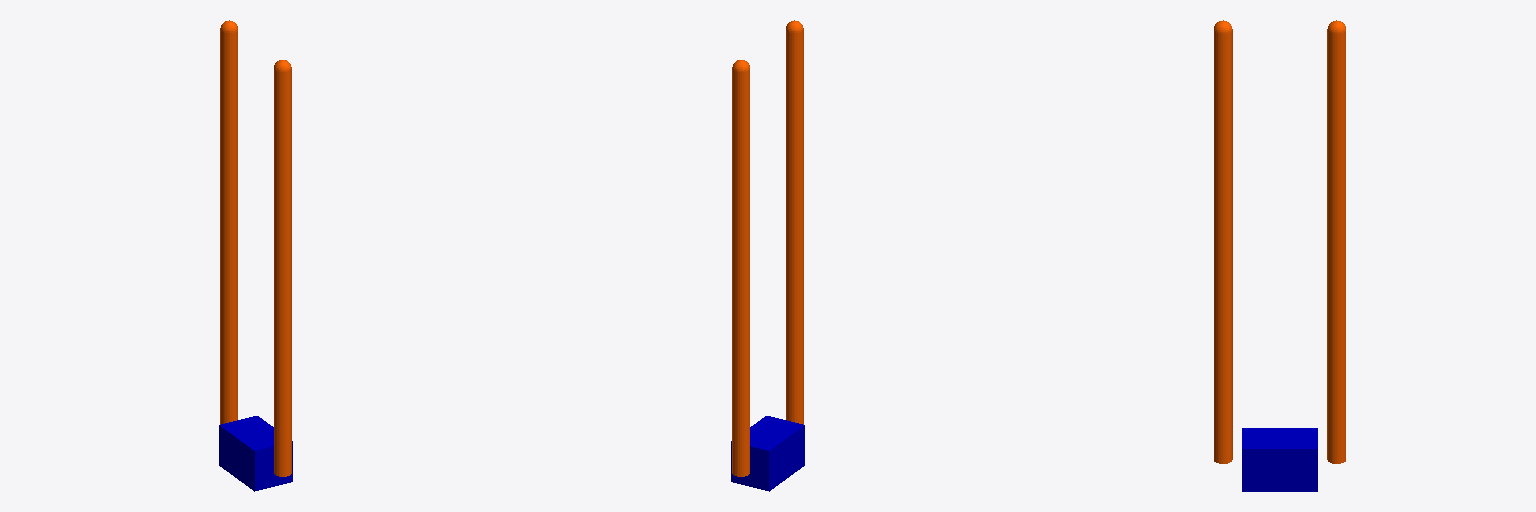
robot.urdf — 1dof:
<?xml version="1.0" encoding="utf-8"?>
<robot name="1dof">
  <material name="black">
    <color rgba="0.0 0.0 0.0 1.0"/>
  </material>
  <material name="blue">
    <color rgba="0.0 0.0 0.8 1.0"/>
  </material>
  <material name="green">
    <color rgba="0.0 0.8 0.0 1.0"/>
  </material>
  <material name="grey">
    <color rgba="0.2 0.2 0.2 1.0"/>
  </material>
  <material name="silver">
    <color rgba="0.913725490196 0.913725490196 0.847058823529 1.0"/>
  </material>
  <material name="orange">
    <color rgba="1.0 0.423529411765 0.0392156862745 1.0"/>
  </material>
  <material name="brown">
    <color rgba="0.870588235294 0.811764705882 0.764705882353 1.0"/>
  </material>
  <material name="red">
    <color rgba="0.8 0.0 0.0 1.0"/>
  </material>
  <material name="white">
    <color rgba="1.0 1.0 1.0 1.0"/>
  </material>


  <link name="trunk">
	 <inertial>
     <origin xyz="0 0 0" rpy="0 0 0"/> 
     <mass value="50"/>
     <inertia ixx="0.03"  ixy="0"  ixz="0" iyy="0.02" iyz="0" izz="0.03" />
    </inertial>
    <visual>
     <origin xyz="0 0 0" rpy="0 0 0" />
     <geometry>
       <box size="0.050 0.080 0.050"/>
     </geometry>
     <material name="blue"/>
    </visual>
    <collision>
     <origin xyz="0 0 0" rpy="0 0 0"/>
     <geometry>
       <box size="0.050 0.080 0.050"/>
     </geometry>
    </collision> 
  </link>


  <link name="link1">
	  <inertial>
     <origin xyz="0 0 0.125" rpy="0 0 0"/>
     <mass value="1"/>
     <inertia ixx="0.005"  ixy="0"  ixz="0" iyy="0.005" iyz="0" izz="0.00005" />
    </inertial>
	  <visual>
     <origin xyz="0 0 0.125" rpy="0 0 0" />
     <geometry>
       <cylinder radius="0.01" length="0.250"/>
     </geometry>
     <material name="orange"/>
    </visual>
	  <collision>
     <origin xyz="0 0 0.125" rpy="0 0 0"/>
     <geometry>
       <cylinder radius="0.01" length="0.250"/>
     </geometry>
    </collision>
  </link>

  
  <link name="link2">
	  <inertial>
     <origin xyz="0 0 0.125" rpy="0 0 0"/>
     <mass value="1"/>
     <inertia ixx="0.005"  ixy="0"  ixz="0" iyy="0.005" iyz="0" izz="0.00005" />
    </inertial>
	  <visual>
     <origin xyz="0 0 0.125" rpy="0 0 0" />
     <geometry>
       <cylinder radius="0.01" length="0.250"/>
     </geometry>
     <material name="orange"/>
    </visual>
	  <collision>
     <origin xyz="0 0 0.125" rpy="0 0 0"/>
     <geometry>
       <cylinder radius="0.01" length="0.250"/>
     </geometry>
    </collision>
  </link>

  <link name="link3">
	  <inertial>
     <origin xyz="0 0 0.005" rpy="0 0 0"/>
     <mass value="1"/>
     <inertia ixx="1e-6"  ixy="0"  ixz="0" iyy="1e-6" iyz="0" izz="1e-6" />
    </inertial>
	  <visual>
     <origin xyz="0 0 0" rpy="0 0 0" />
     <geometry>
       <sphere radius="0.01"/>
     </geometry>
     <material name="orange"/>
    </visual>
	  <collision>
     <origin xyz="0 0 0" rpy="0 0 0"/>
     <geometry>
       <sphere radius="0.01"/>
     </geometry>
    </collision>
  </link>

  <link name="link4">
	  <inertial>
     <origin xyz="0 0 0.125" rpy="0 0 0"/>
     <mass value="1"/>
     <inertia ixx="0.005"  ixy="0"  ixz="0" iyy="0.005" iyz="0" izz="0.00005" />
    </inertial>
	  <visual>
     <origin xyz="0 0 0.125" rpy="0 0 0" />
     <geometry>
       <cylinder radius="0.01" length="0.250"/>
     </geometry>
     <material name="orange"/>
    </visual>
	  <collision>
     <origin xyz="0 0 0.125" rpy="0 0 0"/>
     <geometry>
       <cylinder radius="0.01" length="0.250"/>
     </geometry>
    </collision>
  </link>

  <link name="link5">
	  <inertial>
     <origin xyz="0 0 0.125" rpy="0 0 0"/>
     <mass value="1"/>
     <inertia ixx="0.005"  ixy="0"  ixz="0" iyy="0.005" iyz="0" izz="0.00005" />
    </inertial>
	  <visual>
     <origin xyz="0 0 0.125" rpy="0 0 0" />
     <geometry>
       <cylinder radius="0.01" length="0.250"/>
     </geometry>
     <material name="orange"/>
    </visual>
	  <collision>
     <origin xyz="0 0 0.125" rpy="0 0 0"/>
     <geometry>
       <cylinder radius="0.01" length="0.250"/>
     </geometry>
    </collision>
  </link>  

  <link name="link6">
	  <inertial>
     <origin xyz="0 0 0.005" rpy="0 0 0"/>
     <mass value="1"/>
     <inertia ixx="1e-6"  ixy="0"  ixz="0" iyy="1e-6" iyz="0" izz="1e-6" />
    </inertial>
	  <visual>
     <origin xyz="0 0 0" rpy="0 0 0" />
     <geometry>
       <sphere radius="0.01"/>
     </geometry>
     <material name="orange"/>
    </visual>
	  <collision>
     <origin xyz="0 0 0" rpy="0 0 0"/>
     <geometry>
       <sphere radius="0.01"/>
     </geometry>
    </collision>
  </link>

  <!-- Joints -->

  <joint name="Joint1" type="revolute">
    <parent link="trunk"/>
    <child link="link1"/>
    <axis xyz="0 1 0"/>
    <origin xyz="0 0.06 0.0" rpy="0 0 0" />
  </joint>

  <joint name="Joint2" type="revolute">
    <parent link="link1"/>
    <child link="link2"/>
    <axis xyz="1 0 0"/>
    <origin xyz="0 0 0.250" rpy="0 0 0" />
  </joint>

  <joint name="Joint3" type="fixed">
    <parent link="link2"/>
    <child link="link3"/>
    <origin xyz="0 0 0.250" rpy="0 0 0" />
  </joint>

  <joint name="Joint4" type="revolute">
    <parent link="trunk"/>
    <child link="link4"/>
    <axis xyz="-1 0 0"/>
    <origin xyz="0 -0.06 0.0" rpy="0 0 0" />
  </joint>

  <joint name="Joint5" type="revolute">
    <parent link="link4"/>
    <child link="link5"/>
    <axis xyz="0 -1 0"/>
    <origin xyz="0 0 0.250" rpy="0 0 0" />
  </joint>

  <joint name="Joint6" type="fixed">
    <parent link="link5"/>
    <child link="link6"/>
    <origin xyz="0 0 0.250" rpy="0 0 0" />
  </joint>

</robot>

--- Facts derived from the render (not from the file) ---
Views: 3 orthographic renders of the robot side by side, from view 1: azimuth 30°, elevation 25°; view 2: azimuth 150°, elevation 25°; view 3: azimuth 270°, elevation 25°.
Robot: 1dof — 7 links, 6 joints (4 revolute, 2 fixed); root link trunk; default pose: every joint at zero.
Links seen in each view (by area): view 1: link5, link4, link2, trunk, link1; view 2: link2, link1, link5, trunk, link4; view 3: trunk, link1, link4, link2, link5.
Link boxes in pixels (x1,y1,x2,y2): link5: [274, 69, 291, 274]; link4: [274, 272, 291, 476]; link2: [220, 30, 237, 234]; trunk: [219, 416, 292, 491]; link1: [220, 232, 237, 424]; link2: [732, 69, 749, 274]; link1: [732, 272, 749, 476]; link5: [786, 30, 803, 234]; trunk: [731, 416, 804, 491]; link4: [786, 232, 803, 424]; trunk: [1242, 428, 1317, 491]; link1: [1327, 245, 1345, 463]; link4: [1214, 245, 1232, 463]; link2: [1327, 30, 1345, 248]; link5: [1214, 30, 1232, 248].
Bounding box of the posed robot: 0.05 × 0.14 × 0.535 m (x, y, z).
Geometry: primitives only (box / cylinder / sphere), no mesh files.